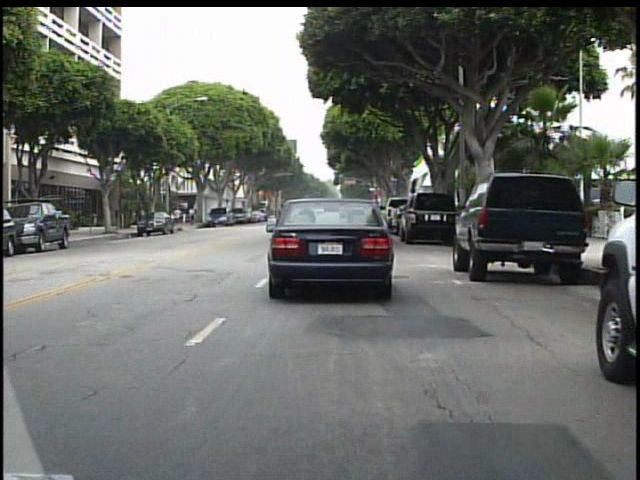person: (185, 202, 198, 228), (175, 204, 183, 226)
